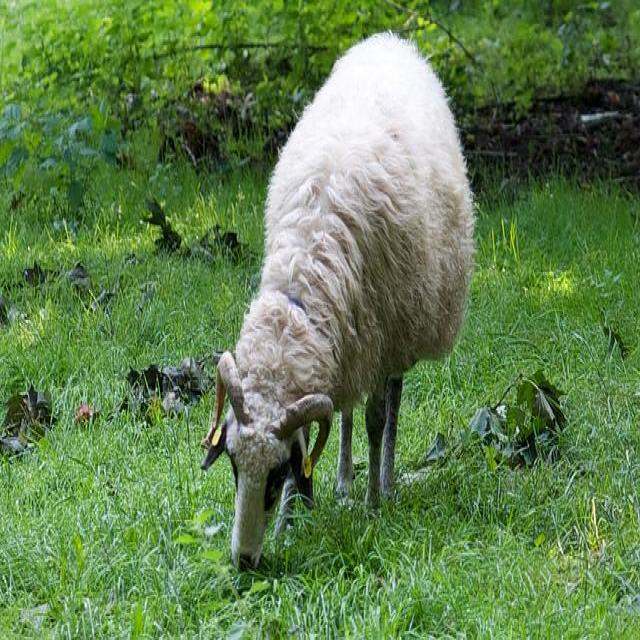Sheep: (201, 30, 474, 574)
